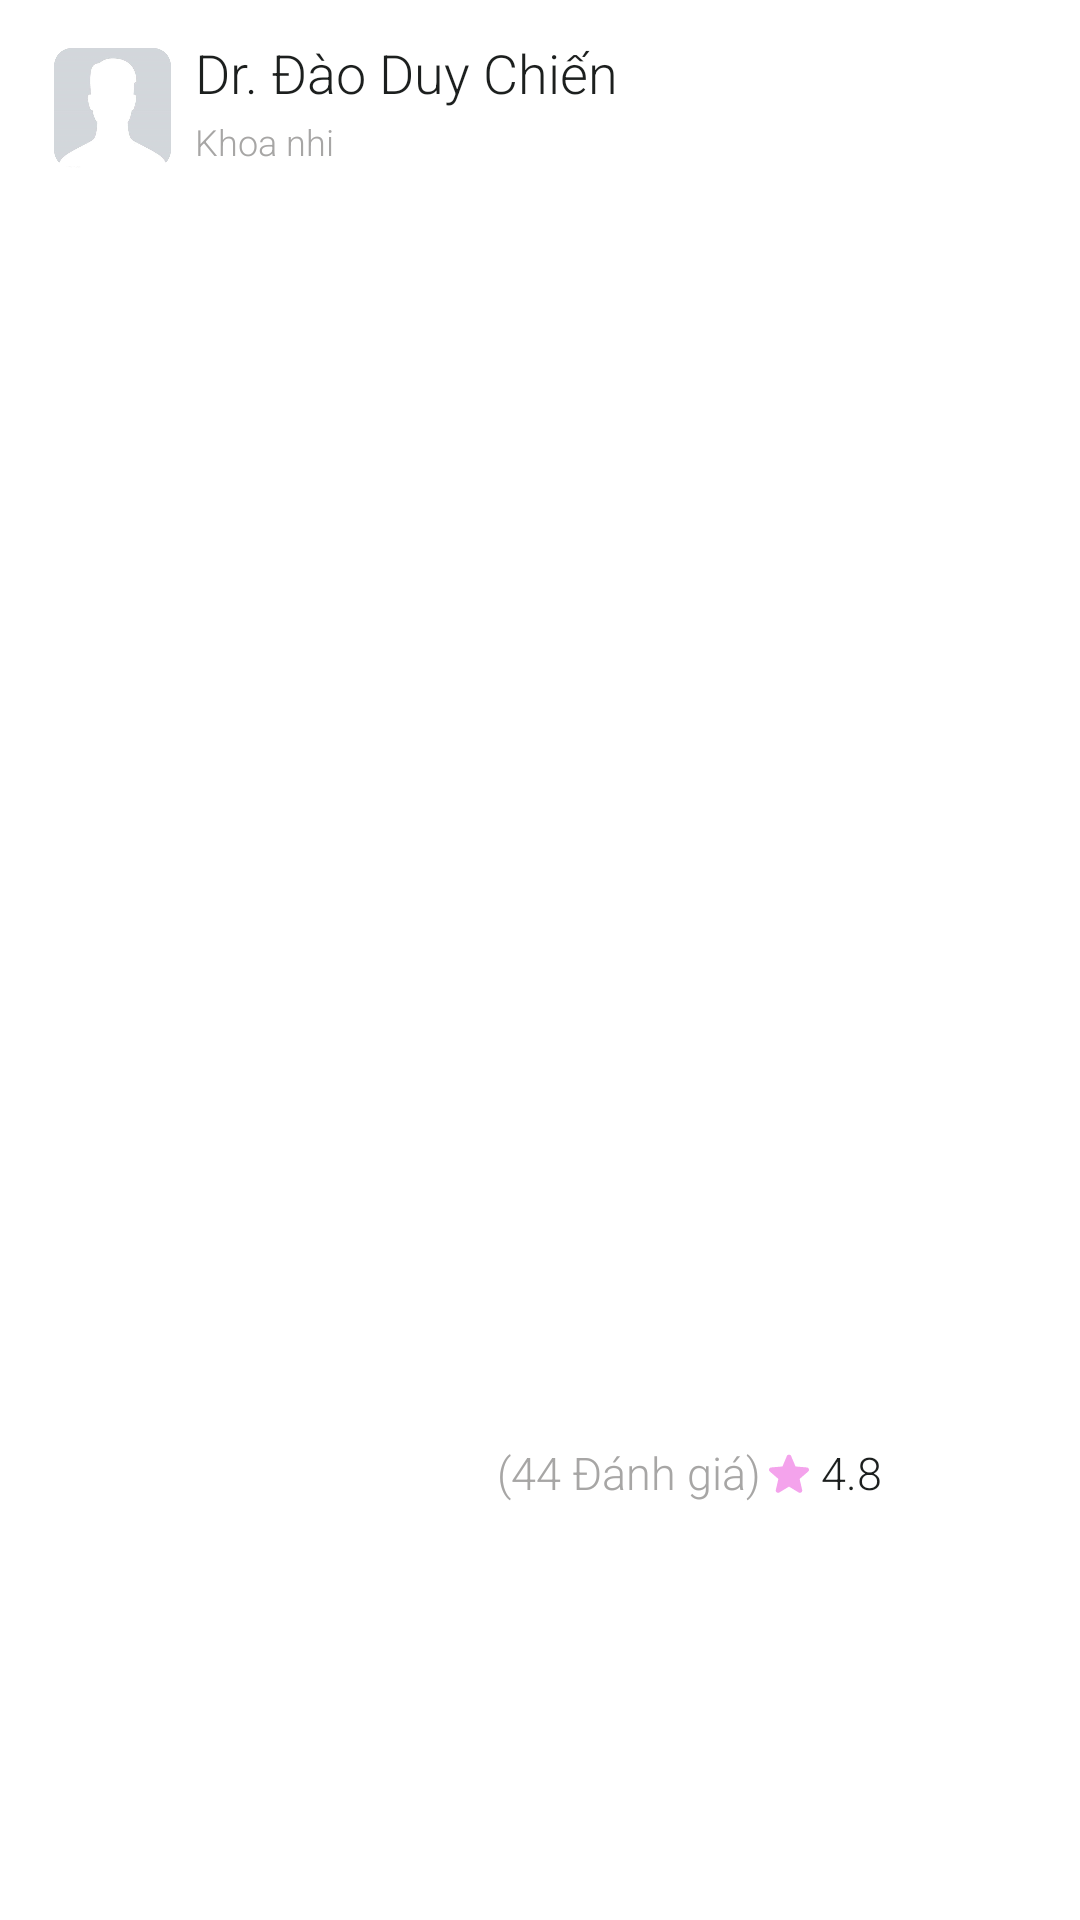

Icon bounding boxes for this 1080*1920 phone screenshot, format (x1=x1, y1=y1, x2=x2, y2=y2):
star: (x1=769, y1=1455, x2=809, y2=1493)
